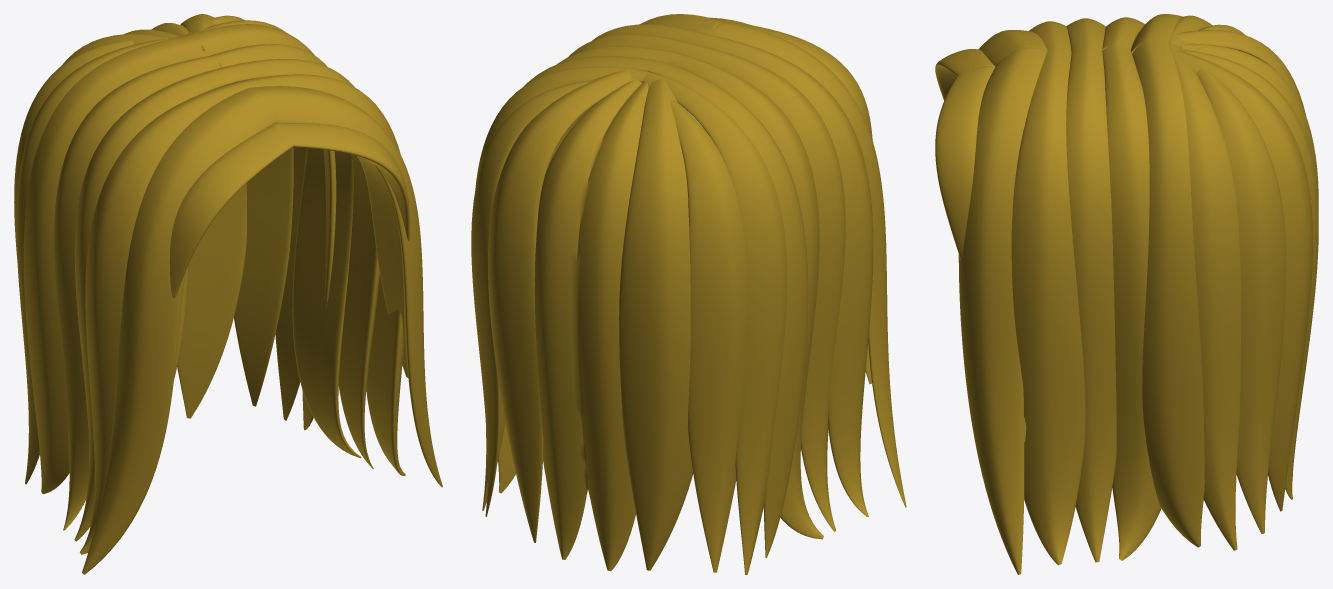
File: Char-model_Female-H_S2_SHORT.fbx
The picture shows the model from 3 angles, left to right: view 1: azimuth 30°, elevation 25°; view 2: azimuth 150°, elevation 25°; view 3: azimuth 270°, elevation 25°; orthographic projection.
Parts seen in each view (by area): view 1: H1.019; view 2: H1.019; view 3: H1.019.
Boxes of the visible parts, x1,y1,x2,y2 form: H1.019: [14, 14, 442, 574]; H1.019: [471, 14, 906, 574]; H1.019: [935, 14, 1318, 574].
Size of the model in its own units: 209 by 248 by 191.
